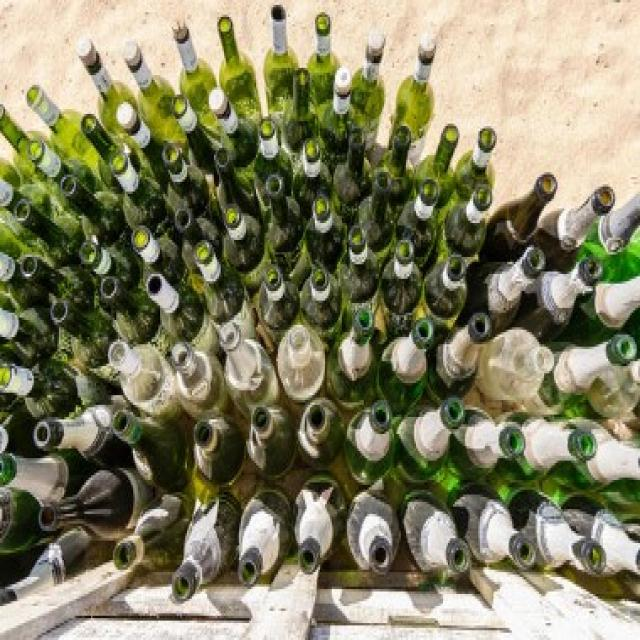electronic: (0, 5, 640, 602)
